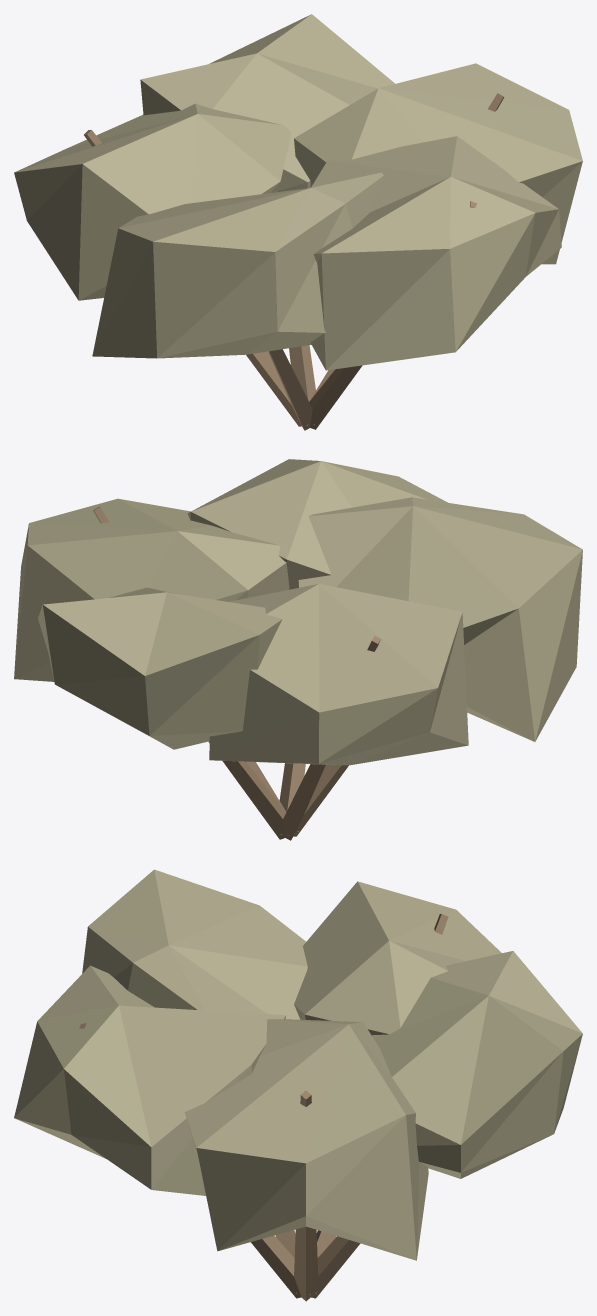
The picture shows the model from 3 angles, top to bottom: view 1: azimuth 30°, elevation 25°; view 2: azimuth 150°, elevation 25°; view 3: azimuth 270°, elevation 25°; orthographic projection. The views are drawn at different scales.
Bounding box in the file's own units: 1.7 × 0.9755 × 1.57.
